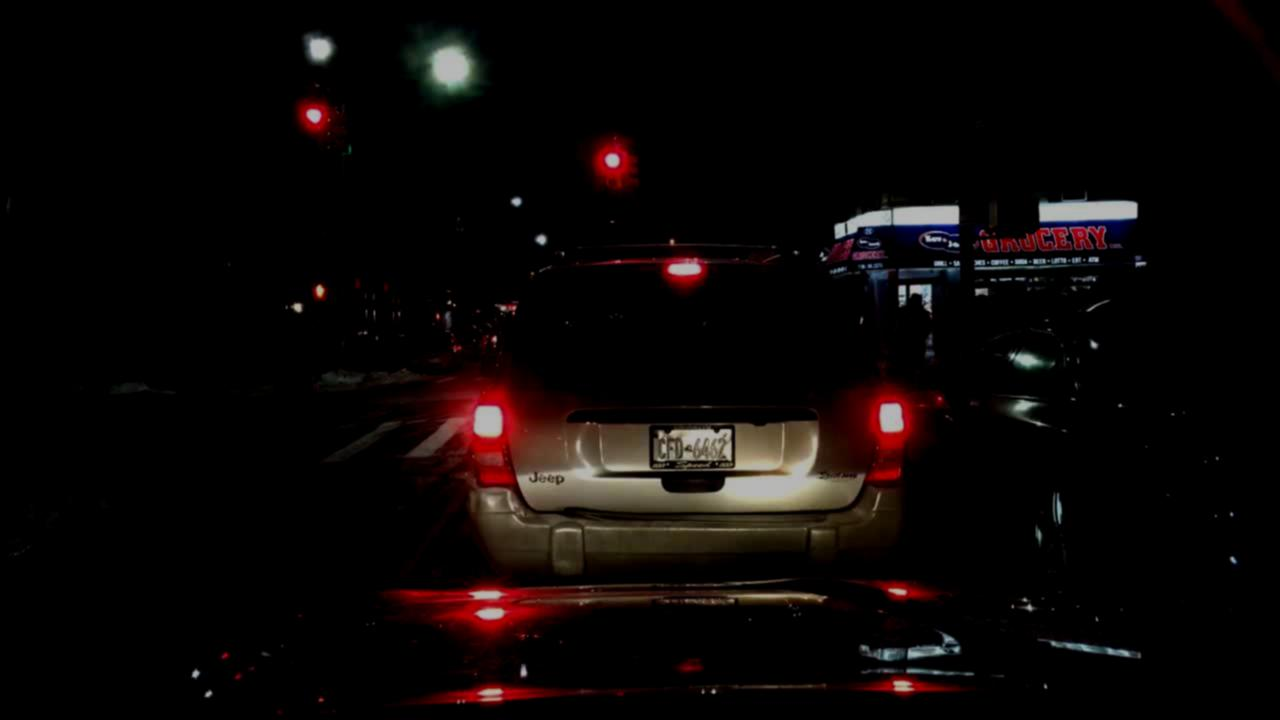jeep: (519, 463, 576, 493)
